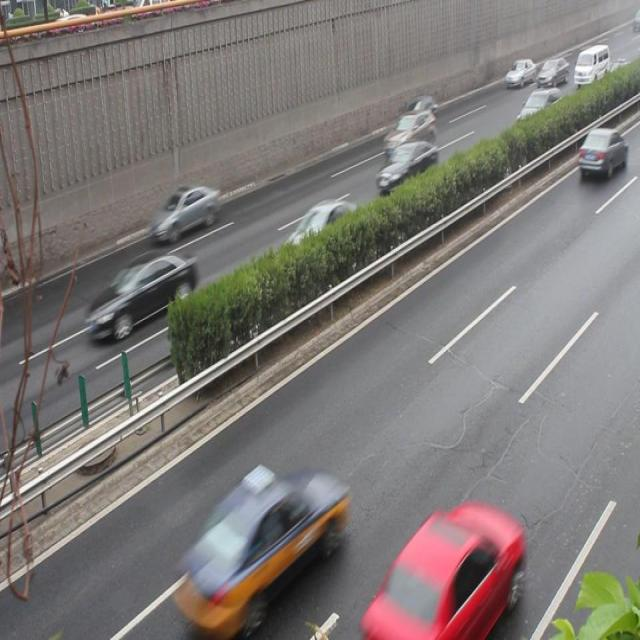car: (173, 475, 341, 621), (369, 505, 517, 640), (88, 252, 196, 337), (276, 199, 365, 270), (148, 181, 218, 242), (374, 140, 436, 195), (576, 128, 626, 179), (383, 112, 434, 159), (516, 89, 562, 135), (399, 97, 436, 132)
